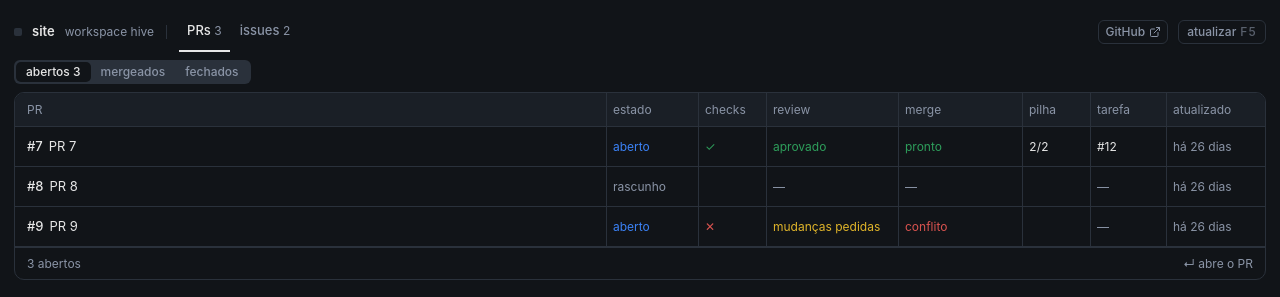
Test: mergeados reads the merged PRs; past the first 100 the footer says so (#758)
The image size is (1280, 297).
Expected: the text "PR 7" is shown, [49,137,76,156]
Click the radio button labelled "mergeados" at (133, 72), box [90,62,175,82]
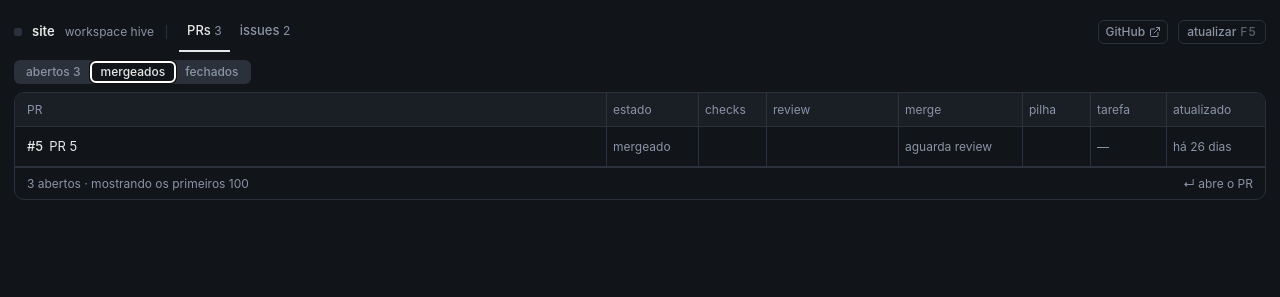
Now the text "PR 5" is shown, box [49,137,77,156]
Now the text "3 abertos · mostrando os primeiros 100" is shown, box [27,176,249,192]
